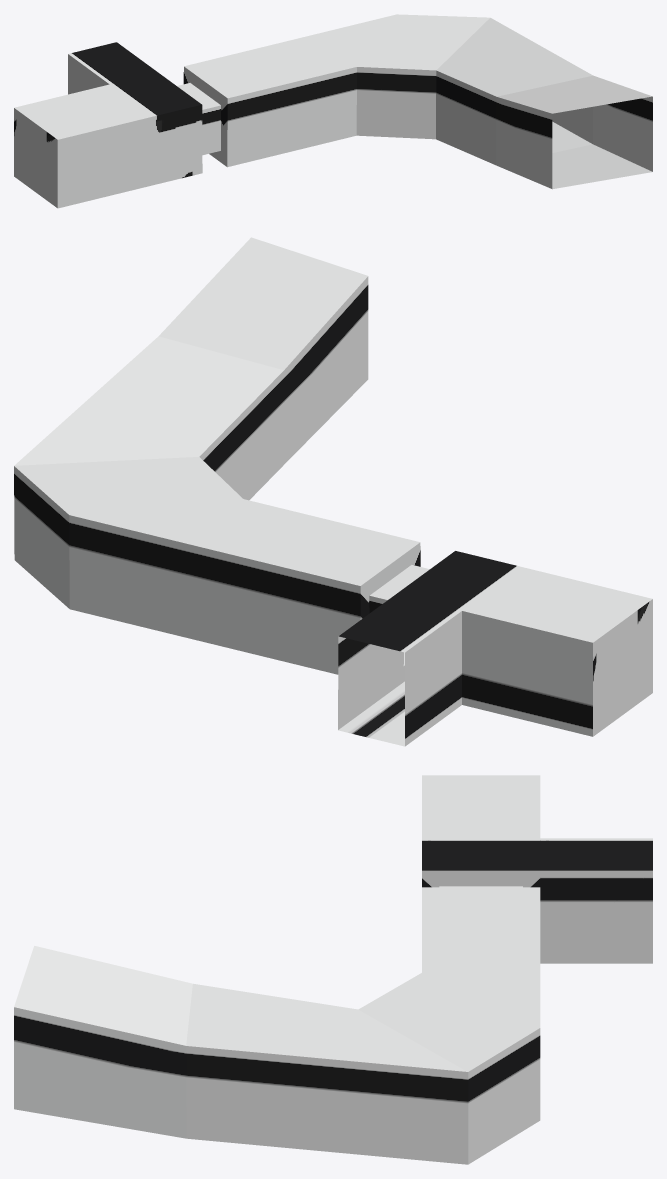
Rendered from Tut2Hub.FBX.
3 renders of one model, top to bottom at view 1: azimuth 30°, elevation 25°; view 2: azimuth 150°, elevation 25°; view 3: azimuth 270°, elevation 25°, orthographic. The views are drawn at different scales.
Visible parts, largest first — view 1: Object104; view 2: Object104; view 3: Object104.
Boxes of the visible parts, left/top/right/bottom form: Object104: left=14, top=14, right=652, bottom=208; Object104: left=14, top=237, right=652, bottom=746; Object104: left=14, top=775, right=652, bottom=1164.
Size of the model in its own units: 40.23 by 9.75 by 36.6.
